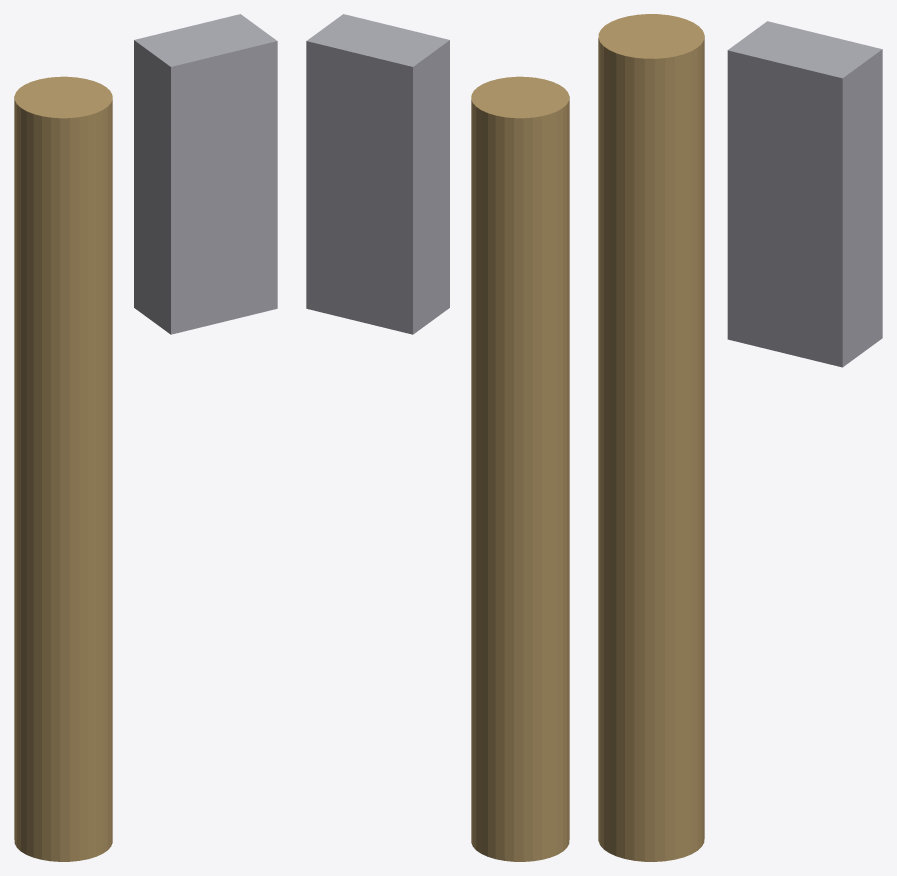
The model's file is tools.glb.
3 views of the same model, side by side, from view 1: azimuth 30°, elevation 25°; view 2: azimuth 150°, elevation 25°; view 3: azimuth 330°, elevation 25° (orthographic). The views are drawn at different scales.
Parts seen in each view (by area): view 1: tool_handle, axe_head; view 2: tool_handle, axe_head; view 3: tool_handle, axe_head.
Part boxes in pixels (x1,y1,x2,y2): tool_handle: (14, 76, 112, 861); axe_head: (134, 14, 277, 334); tool_handle: (471, 76, 569, 861); axe_head: (306, 14, 449, 334); tool_handle: (598, 14, 704, 861); axe_head: (727, 21, 882, 367).
Bounding box in the file's own units: 0.067 × 0.206 × 0.024.
